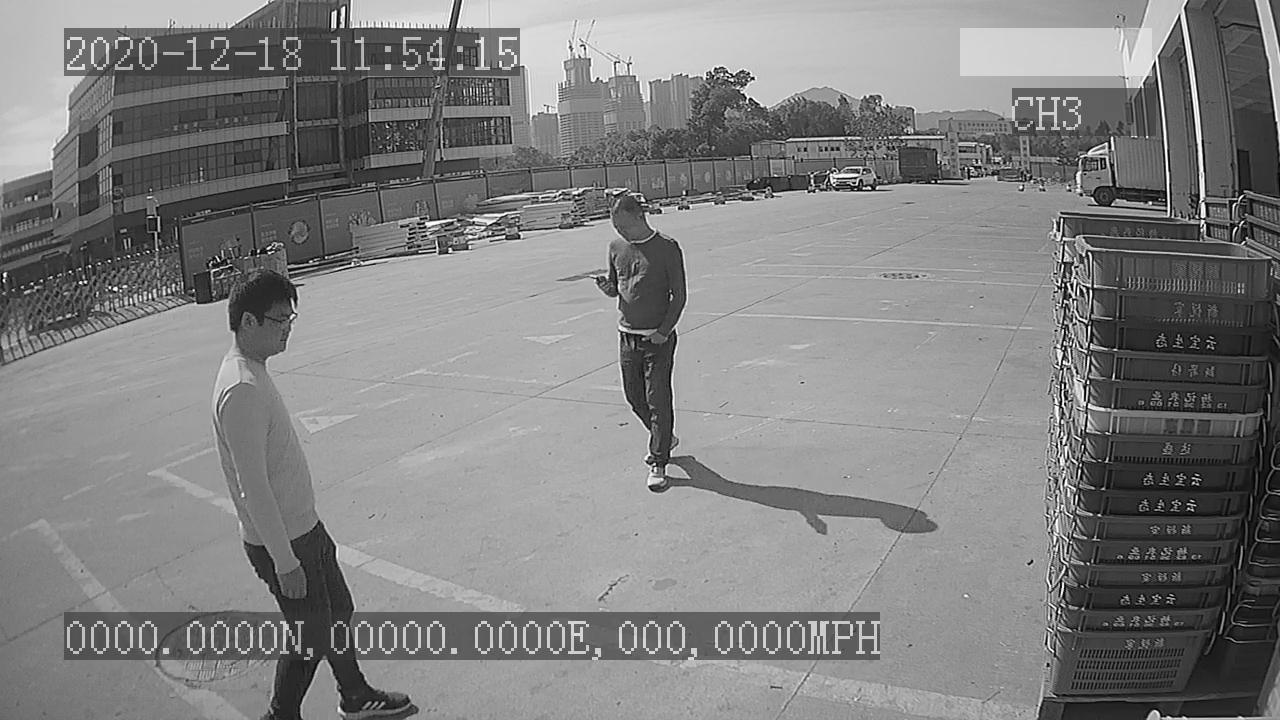person: (583, 192, 695, 501)
